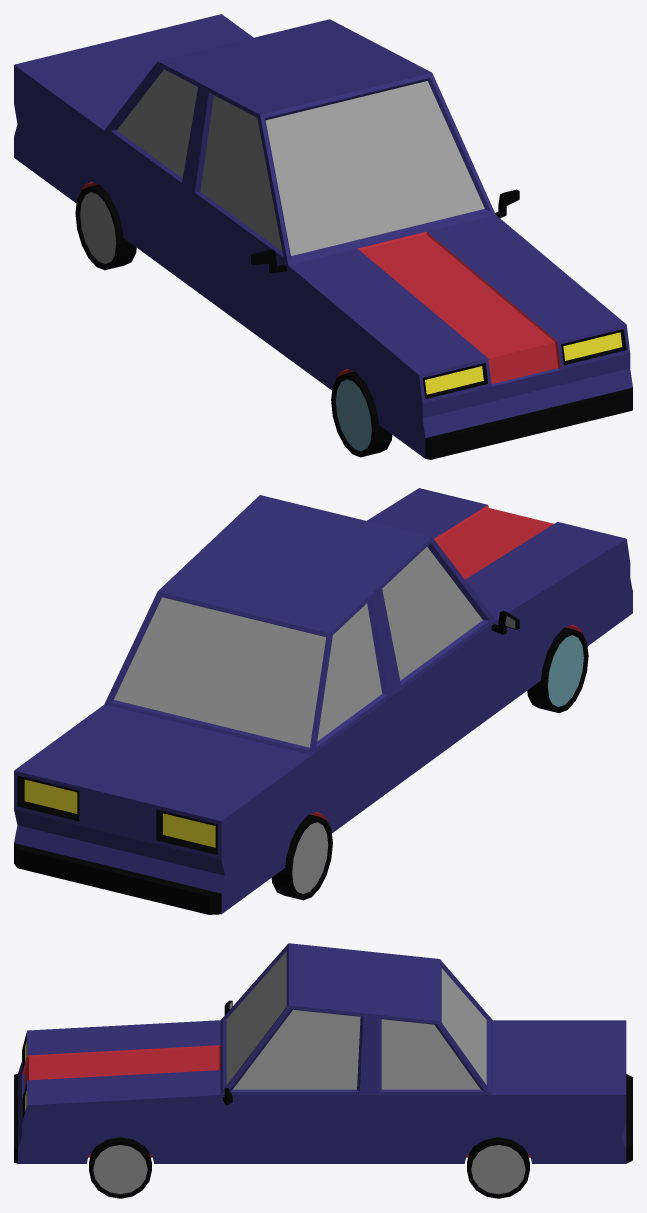
The model's file is sedan car 2.fbx.
The picture shows the model from 3 angles, top to bottom: view 1: azimuth 30°, elevation 25°; view 2: azimuth 150°, elevation 25°; view 3: azimuth 270°, elevation 25°; orthographic projection. The views are drawn at different scales.
Parts seen in each view (by area): view 1: Sedan Car Body.002, Wheel RR.012, Wheel FR.014; view 2: Sedan Car Body.002, Wheel FR.014, Wheel RR.012; view 3: Sedan Car Body.002, Wheel FL.014, Wheel RL.012.
Part boxes in pixels (x1=…): Sedan Car Body.002: x1=14, y1=14, x2=632, y2=459; Wheel RR.012: x1=75, y1=184, x2=136, y2=270; Wheel FR.014: x1=331, y1=371, x2=392, y2=457; Sedan Car Body.002: x1=14, y1=488, x2=632, y2=914; Wheel FR.014: x1=527, y1=627, x2=588, y2=712; Wheel RR.012: x1=271, y1=814, x2=332, y2=900; Sedan Car Body.002: x1=14, y1=943, x2=632, y2=1163; Wheel FL.014: x1=89, y1=1137, x2=151, y2=1198; Wheel RL.012: x1=467, y1=1137, x2=529, y2=1198.
Size of the model in its own units: 1.64 by 1.47 by 4.44.
